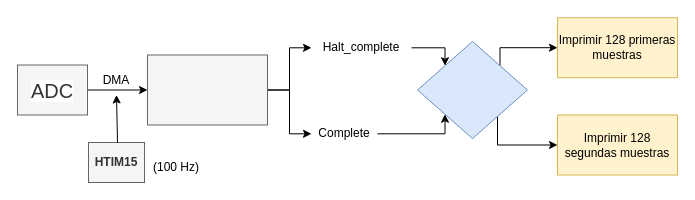
Image size: 695x200. Some labels were removed from this diagram. The shapes that lost their labels are listed below. From the top down, each one's centre as x and y in pixels, then its label:
At point (207, 89): "ADC_BUF [256]".
At point (472, 89): "¿Permiso de UART?".
